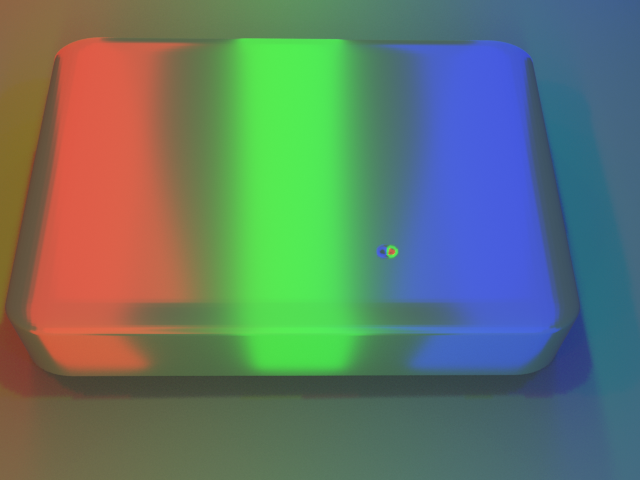dent: (371, 232, 415, 269)
